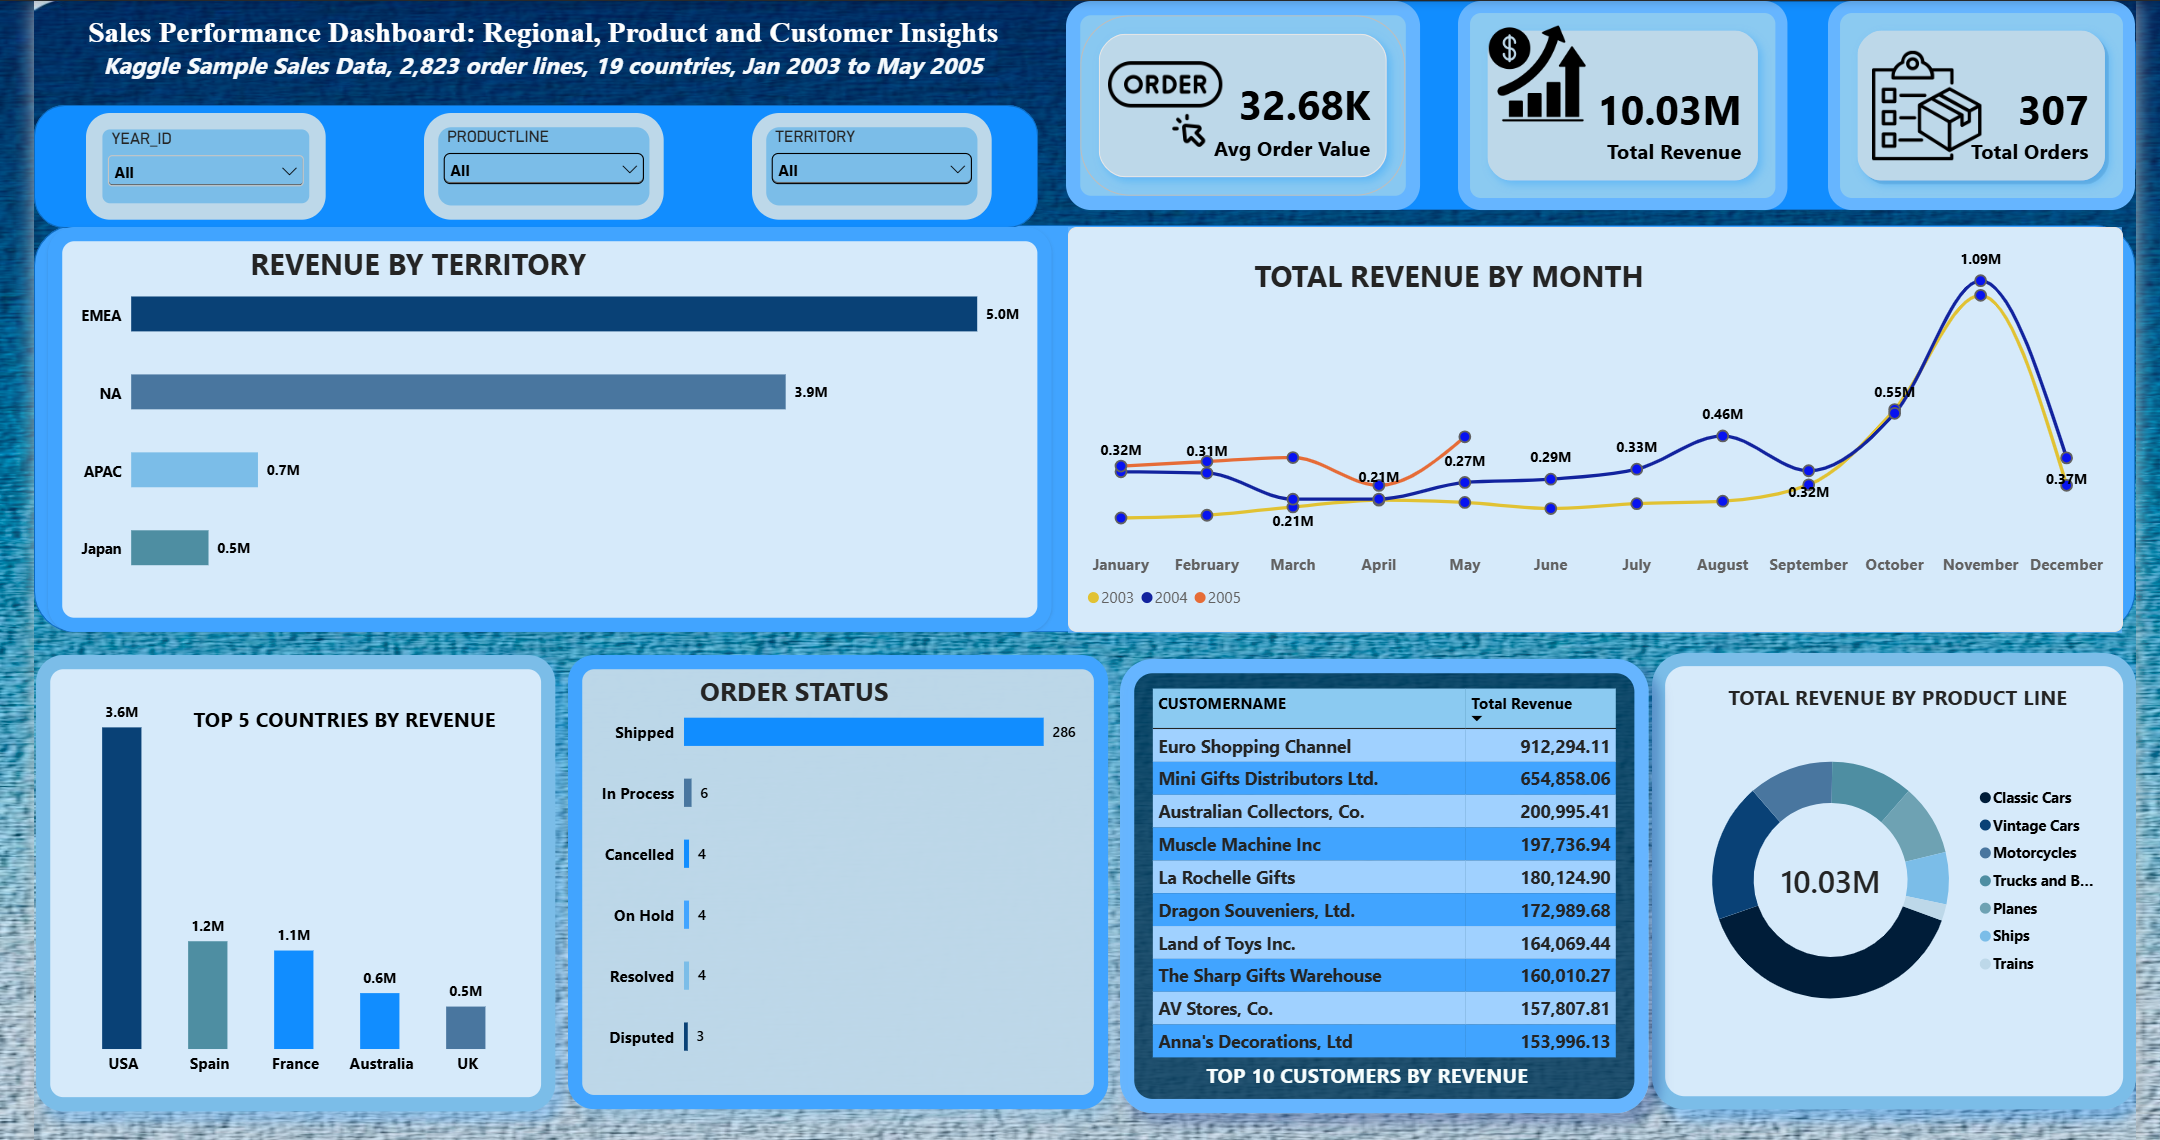

The page's visual inventory and layout, read from the dashboard file:
{"tool":"powerbi","page":{"name":"Page 1","canvas":[1920,1080],"ordinal":0},"visuals":[{"type":"cardVisual","fields":{"Data":["sales_data_sample (1).AvgOrderValue"]},"box":[943.7,0,323.4,191.2],"z":0,"group":"g1"},{"type":"group","id":"g1","title":"Group 2","box":[943.7,0,323.4,191.2],"z":0,"group":"g5"},{"type":"shape","box":[0,205.4,1920,372.2],"z":0},{"type":"barChart","fields":{"Category":["sales_data_sample (1).TERRITORY"],"Y":["sales_data_sample (1).Total Revenue"]},"box":[12.8,206.4,917,370.2],"z":0,"group":"g10"},{"type":"lineChart","fields":{"Category":["sales_data_sample (1).Month Name"],"Series":["sales_data_sample (1).YEAR_ID"],"Y":["sales_data_sample (1).Total Revenue"]},"box":[944.7,206.4,963.8,370.2],"z":0,"group":"g4"},{"type":"shape","box":[943.7,0,978.3,191.2],"z":1000},{"type":"cardVisual","fields":{"Data":["sales_data_sample (1).Total Revenue"]},"box":[1301.7,0,301,191.2],"z":1000,"group":"g3"},{"type":"group","id":"g2","title":"Group 3","box":[1639.3,0,280.7,191.2],"z":1000,"group":"g5"},{"type":"textbox","box":[944.7,231.6,696.7,63.9],"z":1000,"group":"g4"},{"type":"clusteredBarChart","fields":{"Category":["sales_data_sample (1).STATUS"],"Y":["sales_data_sample (1).TotalOrder"]},"box":[487.2,597.9,493.6,414.9],"z":1000,"group":"g11"},{"type":"columnChart","fields":{"Category":["sales_data_sample (1).COUNTRY"],"Y":["sales_data_sample (1).Total Revenue"]},"box":[0.9,598.3,474.5,417],"z":1000,"group":"g7"},{"type":"group","id":"g3","title":"Group 4","box":[1301.7,0,301,191.2],"z":2000,"group":"g5"},{"type":"cardVisual","fields":{"Data":["sales_data_sample (1).TotalOrder"]},"box":[1639.3,0,280.7,191.2],"z":2000,"group":"g2"},{"type":"group","id":"g4","title":"Group 1","box":[944.7,206.4,963.8,370.2],"z":2000},{"type":"donutChart","fields":{"Category":["sales_data_sample (1).PRODUCTLINE"],"Y":["sales_data_sample (1).Total Revenue"]},"box":[1478.4,595.7,442.4,416.9],"z":2000,"group":"g6"},{"type":"group","id":"g5","title":"Group 5","box":[943.7,0,976.3,191.2],"z":3000},{"type":"image","box":[1321.7,22.7,104.6,88.7],"z":3000,"group":"g3"},{"type":"tableEx","fields":{"Values":["sales_data_sample (1).CUSTOMERNAME","sales_data_sample (1).Total Revenue"]},"box":[992.3,601.2,483,414.9],"z":3000,"group":"g8"},{"type":"shape","box":[0,95,917.5,112.5],"z":4000},{"type":"group","id":"g6","title":"Group 6","box":[1478.4,595.7,442.2,416.6],"z":5000},{"type":"group","id":"g7","title":"Group 7","box":[0.9,598.3,474.5,417],"z":6000},{"type":"group","id":"g8","title":"Group 8","box":[992.3,601.2,483,414.9],"z":7000},{"type":"textbox","box":[1502.2,624,401.4,43.8],"z":7000,"group":"g6"},{"type":"group","id":"g9","title":"Group 10","box":[47.5,102.5,827.5,97.5],"z":8000},{"type":"textbox","box":[608.7,613.8,363.8,41.7],"z":8000,"group":"g11"},{"type":"textbox","box":[1037.9,969.1,360.3,31.9],"z":8000,"group":"g8"},{"type":"image","box":[1678.8,0,100.1,191.1],"z":9000,"group":"g2"},{"type":"slicer","fields":{"Values":["sales_data_sample (1).YEAR_ID"]},"box":[47.5,102.5,219.1,97.5],"z":9000,"group":"g9"},{"type":"group","id":"g10","title":"Group 11","box":[12.8,206.4,917,370.2],"z":9000},{"type":"textbox","box":[130.7,643.1,304.3,41.7],"z":9000,"group":"g7"},{"type":"textbox","box":[77.2,221.4,548.6,41.4],"z":9001,"group":"g10"},{"type":"textbox","box":[12.5,12.5,905,82.5],"z":10000},{"type":"image","box":[982.7,38.7,104.6,111.5],"z":10000,"group":"g1"},{"type":"slicer","fields":{"Values":["sales_data_sample (1).TERRITORY"]},"box":[655.9,102.5,219.1,97.5],"z":10000,"group":"g9"},{"type":"slicer","fields":{"Values":["sales_data_sample (1).PRODUCTLINE"]},"box":[356.7,102.5,219.1,97.5],"z":11000,"group":"g9"},{"type":"group","id":"g11","title":"Group 9","box":[487.2,597.9,493.6,414.9],"z":11000}]}

Visuals, with their boxes in screenshot pixels (x1, y1, x2, y2):
cardVisual - sales_data_sample (1).AvgOrderValue: 1065, 0, 1415, 207
"Group 2" group: 1065, 0, 1415, 207
shape: 45, 222, 2121, 624
barChart - sales_data_sample (1).TERRITORY x sales_data_sample (1).Total Revenue: 59, 223, 1050, 623
lineChart - sales_data_sample (1).Month Name x sales_data_sample (1).YEAR_ID: 1066, 223, 2108, 623
shape: 1065, 0, 2123, 207
cardVisual - sales_data_sample (1).Total Revenue: 1452, 0, 1778, 207
"Group 3" group: 1817, 0, 2121, 207
textbox: 1066, 250, 1819, 319
clusteredBarChart - sales_data_sample (1).STATUS x sales_data_sample (1).TotalOrder: 572, 646, 1105, 1095
columnChart - sales_data_sample (1).COUNTRY x sales_data_sample (1).Total Revenue: 46, 647, 559, 1098
"Group 4" group: 1452, 0, 1778, 207
cardVisual - sales_data_sample (1).TotalOrder: 1817, 0, 2121, 207
"Group 1" group: 1066, 223, 2108, 623
donutChart - sales_data_sample (1).PRODUCTLINE x sales_data_sample (1).Total Revenue: 1643, 644, 2121, 1095
"Group 5" group: 1065, 0, 2121, 207
image: 1474, 25, 1587, 120
tableEx - sales_data_sample (1).CUSTOMERNAME x sales_data_sample (1).Total Revenue: 1118, 650, 1640, 1098
shape: 45, 103, 1037, 224
"Group 6" group: 1643, 644, 2121, 1094
"Group 7" group: 46, 647, 559, 1098
"Group 8" group: 1118, 650, 1640, 1098
textbox: 1669, 675, 2103, 722
"Group 10" group: 96, 111, 991, 216
textbox: 703, 664, 1096, 709
textbox: 1167, 1048, 1556, 1082
image: 1860, 0, 1968, 207
slicer - sales_data_sample (1).YEAR_ID: 96, 111, 333, 216
"Group 11" group: 59, 223, 1050, 623
textbox: 186, 695, 515, 740
textbox: 128, 239, 721, 284
textbox: 59, 14, 1037, 103
image: 1107, 42, 1220, 162
slicer - sales_data_sample (1).TERRITORY: 754, 111, 991, 216
slicer - sales_data_sample (1).PRODUCTLINE: 431, 111, 667, 216
"Group 9" group: 572, 646, 1105, 1095
